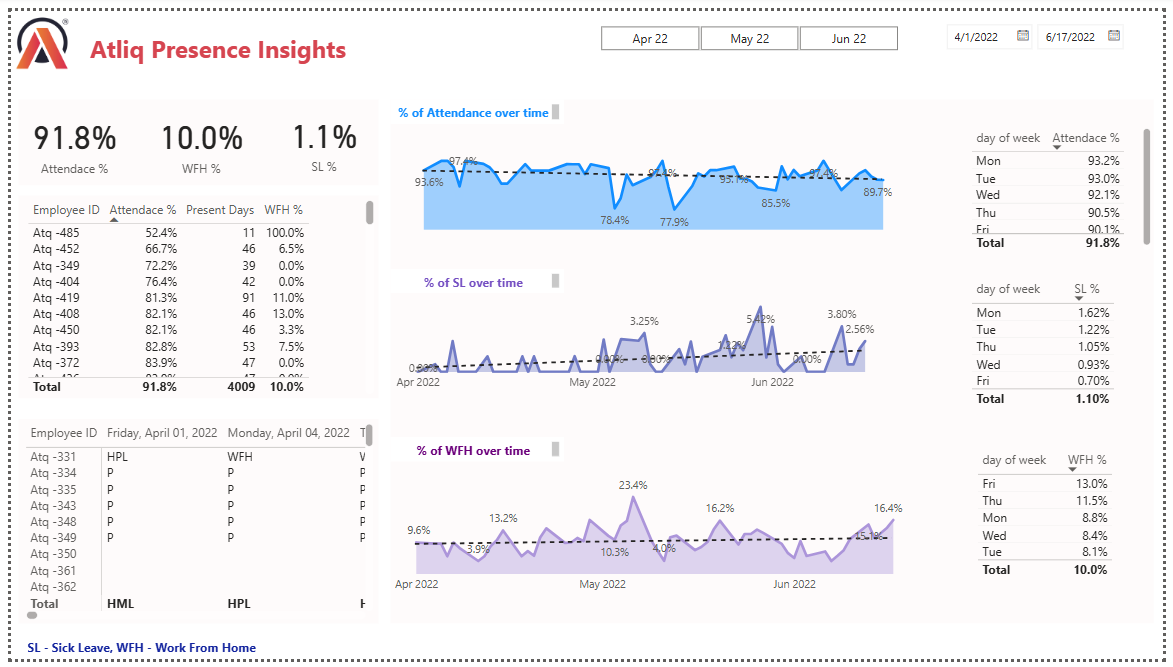

Layout of this report page (visuals, bound fields, positions):
{"tool":"powerbi","page":{"name":"Presence Insights","canvas":[1280,720],"ordinal":0},"visuals":[{"type":"textbox","box":[7.8,205.6,399.9,225.5],"z":0},{"type":"textbox","box":[7.8,453.3,399.8,227.6],"z":1000},{"type":"textbox","box":[422.3,97.9,848.1,582.3],"z":2000},{"type":"textbox","box":[7.8,98,399.9,95.4],"z":3000},{"type":"tableEx","fields":{"Values":["Final Data.Employee ID","Measures (2).Attendace %","Measures (2).Present Days","Measures (2).WFH %"]},"box":[12.6,205.2,394.9,225.7],"z":4000},{"type":"slicer","fields":{"Values":["Final Data.Date"]},"box":[1027.3,5.2,252.7,46.3],"z":5000},{"type":"slicer","fields":{"Values":["Final Data.MMM YY"]},"box":[630.4,10.5,379.5,35.8],"z":6000},{"type":"areaChart","fields":{"Category":["Final Data.MMM YY","Final Data.Date"],"Y":["Measures (2).WFH %"]},"box":[420.7,502.3,589,153.5],"z":7000},{"type":"areaChart","fields":{"Category":["Final Data.WeekNo","Final Data.Date"],"Y":["Measures (2).Attendace %"]},"box":[444.1,144.9,540.4,103.2],"z":8000},{"type":"card","fields":{"Values":["Measures (2).Attendace %"]},"box":[7.8,98,124,96.3],"z":9000},{"type":"card","fields":{"Values":["Measures (2).WFH %"]},"box":[141.4,98,138.8,96.3],"z":10000},{"type":"areaChart","fields":{"Category":["Final Data.MMM YY","Final Data.Date"],"Y":["Measures (2).SL %"]},"box":[422.5,307.1,556,124],"z":11000},{"type":"image","box":[0,0,70,71],"z":12000},{"type":"card","fields":{"Values":["Measures (2).SL %"]},"box":[286.3,97.2,121.4,96.3],"z":13000},{"type":"textbox","box":[70.3,0,320.1,71.1],"z":14000},{"type":"textbox","box":[422.4,98.2,192.5,27.5],"z":15000},{"type":"textbox","box":[422.5,286.3,192.6,26.9],"z":16000},{"type":"textbox","box":[422.1,473.7,192.6,27.2],"z":17000},{"type":"pivotTable","fields":{"Rows":["Final Data.Employee ID"],"Columns":["Final Data.Date"],"Values":["Min(Final Data.Value)"]},"box":[11.7,453.3,395.9,227.6],"z":18000},{"type":"textbox","box":[13.6,691.6,289.8,28.2],"z":19000},{"type":"tableEx","fields":{"Values":["Final Data.day of week","Measures (2).Attendace %"]},"box":[1060.9,125.8,209.9,145.7],"z":20000},{"type":"tableEx","fields":{"Values":["Final Data.day of week","Measures (2).SL %"]},"box":[1060.9,294.1,191.7,167.4],"z":21000},{"type":"tableEx","fields":{"Values":["Final Data.day of week","Measures (2).WFH %"]},"box":[1068.7,483.2,170,167.4],"z":22000}]}

Visuals, with their boxes in screenshot pixels (x1, y1, x2, y2), scaled from the page's 1280x720 canvas onto the 1173x667 screenshot:
textbox: {"left": 7, "top": 190, "right": 374, "bottom": 399}
textbox: {"left": 7, "top": 420, "right": 374, "bottom": 631}
textbox: {"left": 387, "top": 91, "right": 1164, "bottom": 630}
textbox: {"left": 7, "top": 91, "right": 374, "bottom": 179}
tableEx - Final Data.Employee ID x Measures (2).Attendace %: {"left": 12, "top": 190, "right": 373, "bottom": 399}
slicer - Final Data.Date: {"left": 941, "top": 5, "right": 1172, "bottom": 48}
slicer - Final Data.MMM YY: {"left": 578, "top": 10, "right": 925, "bottom": 43}
areaChart - Final Data.MMM YY x Final Data.Date: {"left": 386, "top": 465, "right": 925, "bottom": 608}
areaChart - Final Data.WeekNo x Final Data.Date: {"left": 407, "top": 134, "right": 902, "bottom": 230}
card - Measures (2).Attendace %: {"left": 7, "top": 91, "right": 121, "bottom": 180}
card - Measures (2).WFH %: {"left": 130, "top": 91, "right": 257, "bottom": 180}
areaChart - Final Data.MMM YY x Final Data.Date: {"left": 387, "top": 284, "right": 897, "bottom": 399}
image: {"left": 0, "top": 0, "right": 64, "bottom": 66}
card - Measures (2).SL %: {"left": 262, "top": 90, "right": 374, "bottom": 179}
textbox: {"left": 64, "top": 0, "right": 358, "bottom": 66}
textbox: {"left": 387, "top": 91, "right": 563, "bottom": 116}
textbox: {"left": 387, "top": 265, "right": 564, "bottom": 290}
textbox: {"left": 387, "top": 439, "right": 563, "bottom": 464}
pivotTable - Final Data.Employee ID x Final Data.Date: {"left": 11, "top": 420, "right": 374, "bottom": 631}
textbox: {"left": 12, "top": 641, "right": 278, "bottom": 666}
tableEx - Final Data.day of week x Measures (2).Attendace %: {"left": 972, "top": 117, "right": 1165, "bottom": 252}
tableEx - Final Data.day of week x Measures (2).SL %: {"left": 972, "top": 272, "right": 1148, "bottom": 428}
tableEx - Final Data.day of week x Measures (2).WFH %: {"left": 979, "top": 448, "right": 1135, "bottom": 603}
